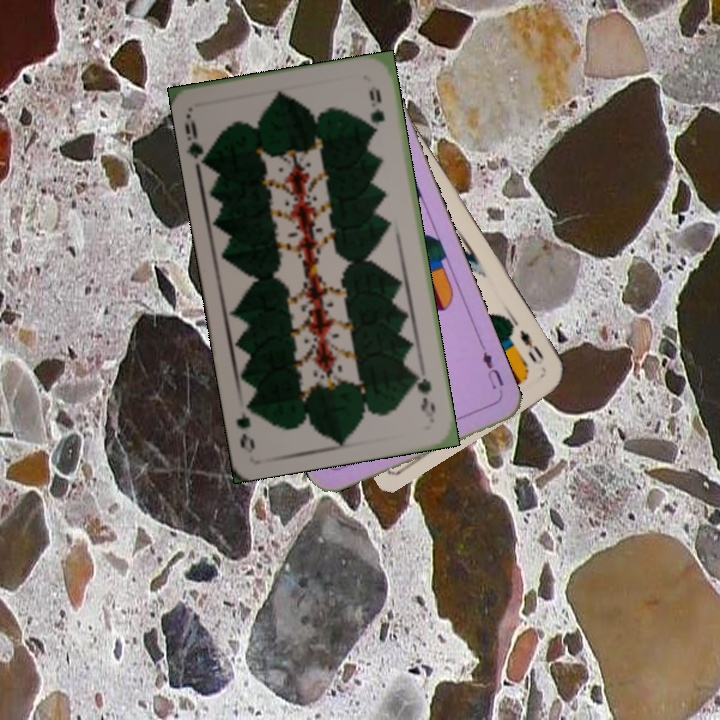EO: (515, 326, 547, 365)
EU: (477, 341, 507, 399)
G9: (180, 110, 213, 167), (411, 366, 438, 423)
